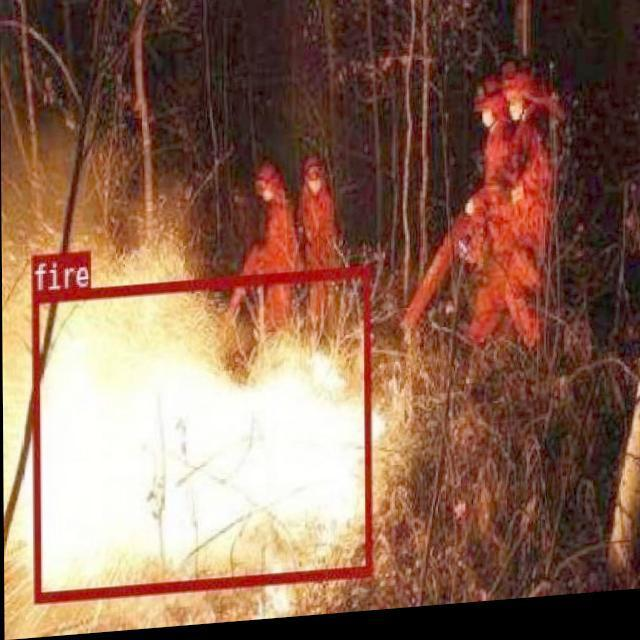Fire: (14, 315, 375, 577)
Smoke: (2, 240, 370, 577)
